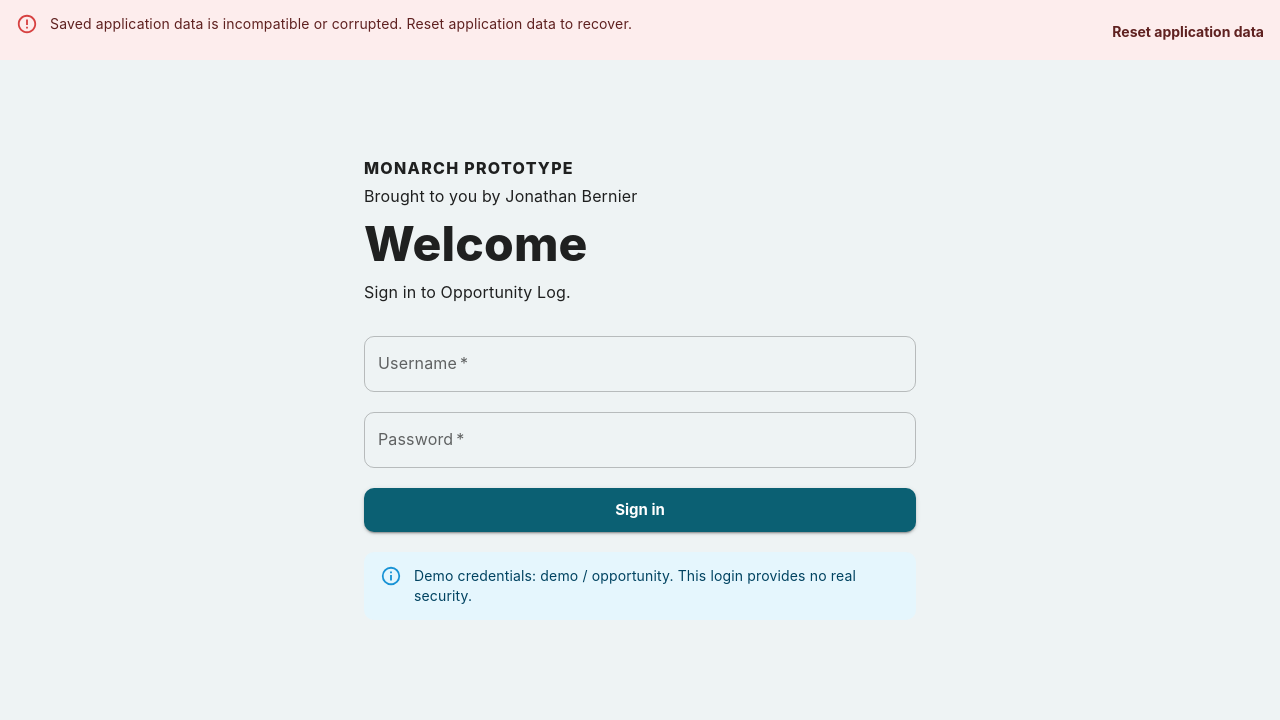
Test case: login and application shell › offers an accessible reset when saved application data is corrupted
Check: the text "corrupted" is shown, box [50, 15, 632, 32]
Click the button "Reset application data" at (1188, 32), box [1104, 10, 1272, 54]
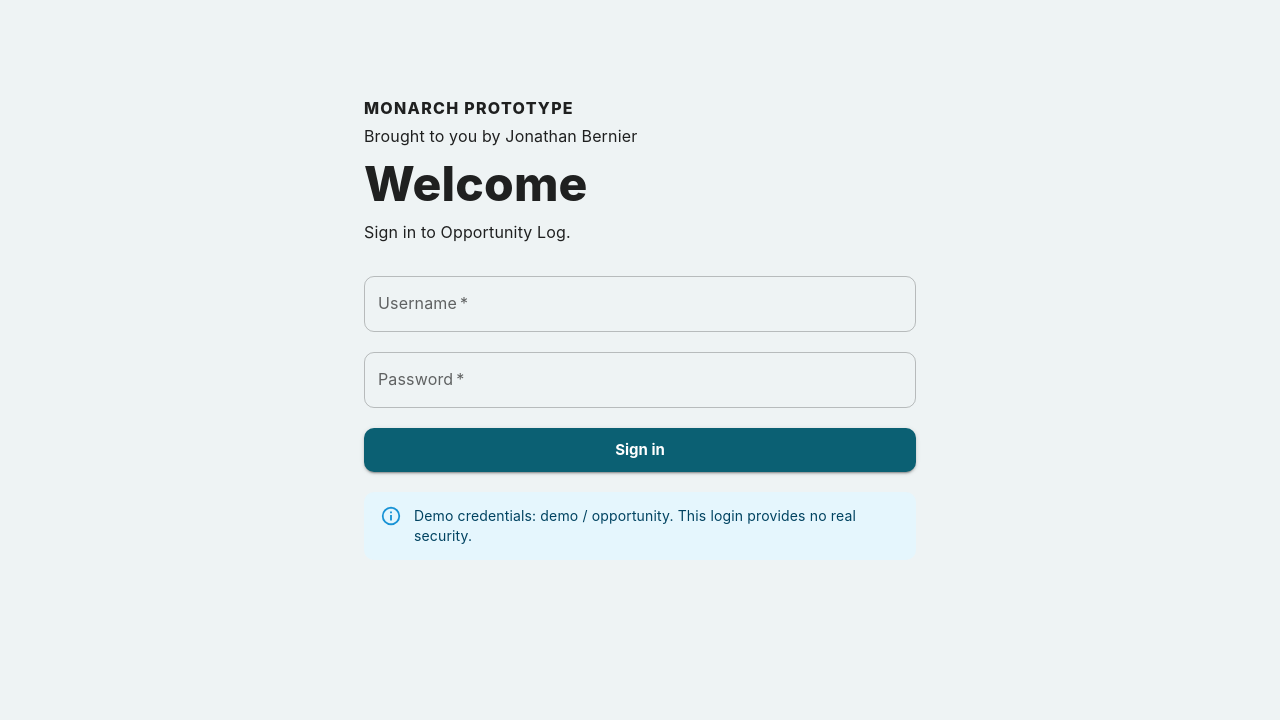
Check: the text "corrupted" is gone
